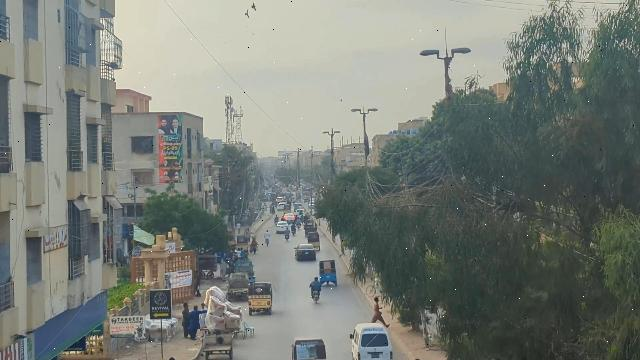Bike: (311, 288, 321, 304)
Cart: (200, 330, 236, 360)
Person: (370, 295, 390, 329), (188, 305, 201, 339), (179, 300, 189, 339), (199, 302, 206, 332), (310, 276, 323, 289)
Rickshaw: (290, 334, 328, 360), (246, 281, 274, 316), (317, 258, 339, 286)
Van: (348, 321, 394, 360)
